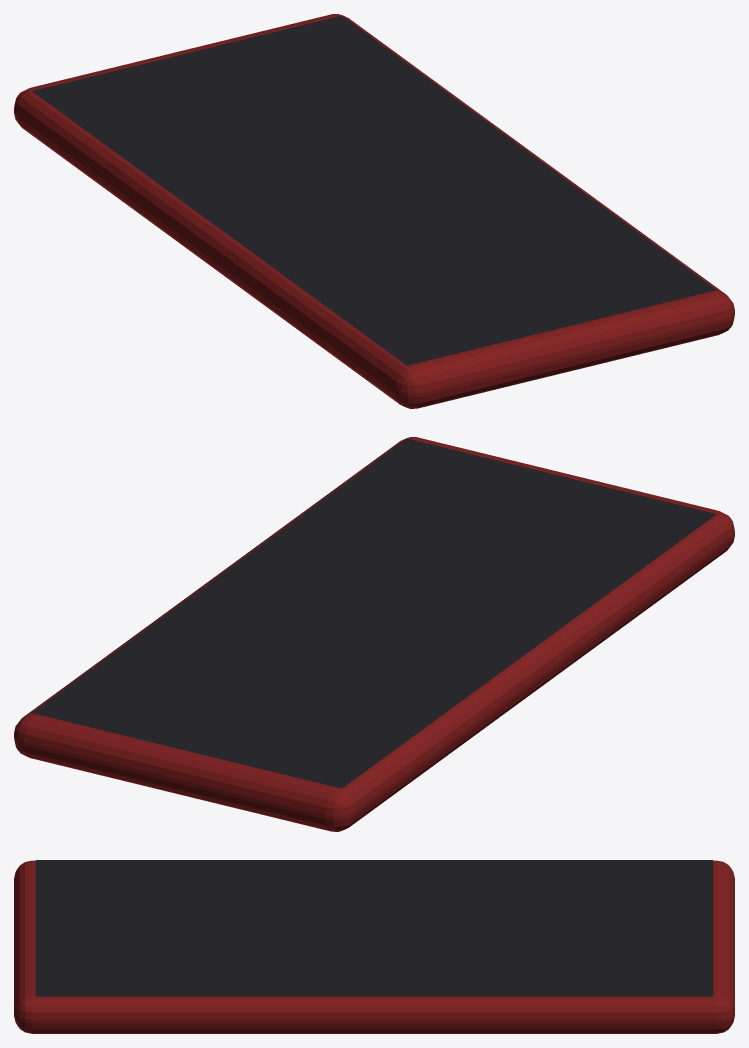
The model's file is Phone_568.glb.
The picture shows the model from 3 angles, top to bottom: view 1: azimuth 30°, elevation 25°; view 2: azimuth 150°, elevation 25°; view 3: azimuth 270°, elevation 25°; orthographic projection. The views are drawn at different scales.
Visible parts, largest first — view 1: Phone_Screen, Phone_Body; view 2: Phone_Screen, Phone_Body; view 3: Phone_Screen, Phone_Body.
Part boxes in pixels (x1,y1,x2,y2): Phone_Screen: (32, 15, 716, 365); Phone_Body: (14, 14, 734, 408); Phone_Screen: (32, 438, 716, 788); Phone_Body: (14, 437, 734, 831); Phone_Screen: (35, 860, 713, 996); Phone_Body: (14, 860, 734, 1033).
Bounding box in the file's own units: 0.0753 × 0.0088 × 0.1544.
